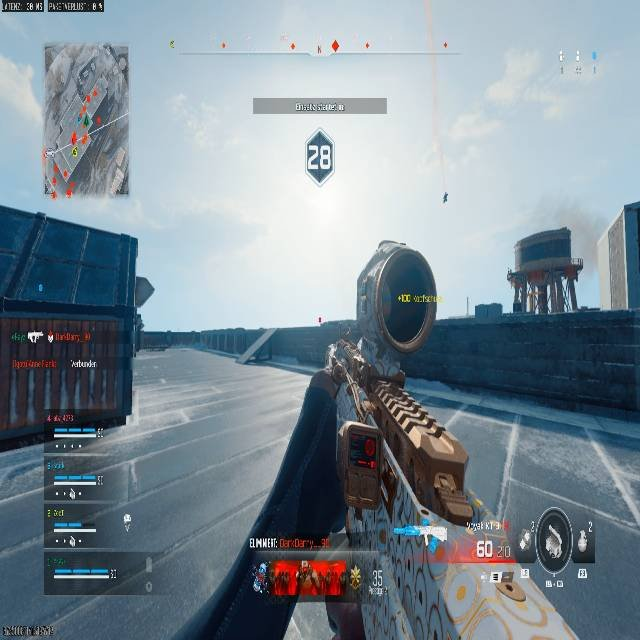head: (354, 241, 438, 347)
